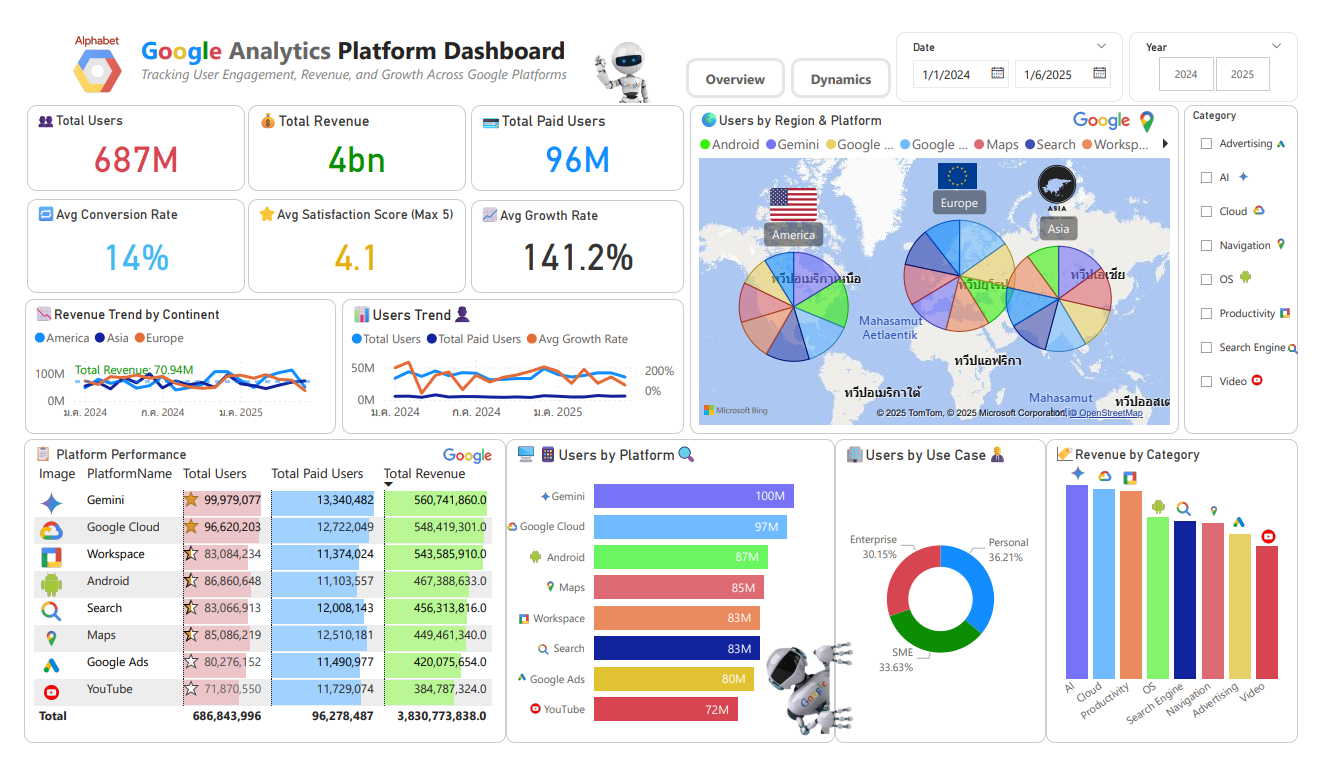

This screenshot's page, from the dashboard's own definition file:
{"tool":"powerbi","page":{"name":"Overview","canvas":[1280,720],"ordinal":0},"visuals":[{"type":"card","title":"👥Total Users","fields":{"Values":["FactUsage.Total Users"]},"box":[3.1,81.6,217.7,86.6],"z":0},{"type":"card","title":"💰Total Revenue","fields":{"Values":["FactUsage.Total Revenue"]},"box":[223.8,81.8,218.6,86.4],"z":1000},{"type":"card","title":"💳Total Paid Users","fields":{"Values":["FactUsage.Total Paid Users"]},"box":[447,81.8,212.7,86.4],"z":2000},{"type":"card","title":"🔁Avg Conversion Rate\t","fields":{"Values":["FactUsage.Avg Conversion Rate (%)"]},"box":[3.3,176,217.3,93.6],"z":3000},{"type":"card","title":"⭐Avg Satisfaction Score (Max 5)","fields":{"Values":["FactUsage.Avg Satisfaction Score"]},"box":[223.8,176,218.6,94.2],"z":4000},{"type":"card","title":"📈Avg Growth Rate","fields":{"Values":["FactUsage.Avg Growth Rate"]},"box":[447,176.7,212.7,93.6],"z":5000},{"type":"lineChart","title":"📉Revenue Trend by Continent","fields":{"Series":["DimRegion.Continent"],"Y":["FactUsage.Total Revenue"],"Category":["FactUsage.Date"]},"box":[1.3,276.2,310.8,134.8],"z":6000},{"type":"lineChart","title":"📊Users Trend👤","fields":{"Y":["FactUsage.Total Users","FactUsage.Total Paid Users"],"Category":["FactUsage.Date.Variation.Date Hierarchy.Year","FactUsage.Date.Variation.Date Hierarchy.Quarter","FactUsage.Date.Variation.Date Hierarchy.Month","FactUsage.Date.Variation.Date Hierarchy.Day"],"Y2":["FactUsage.Avg Growth Rate"]},"box":[318,276.2,341.6,134.8],"z":7000},{"type":"barChart","title":"🖥️📱Users by Platform🔍","fields":{"Category":["DimPlatform.PlatformName"],"Y":["FactUsage.Total Users"]},"box":[481.7,415.7,329.4,304],"z":8000},{"type":"donutChart","title":"🏢Users by Use Case🧑💼","fields":{"Category":["FactUsage.UseCase"],"Y":["FactUsage.Total Users"]},"box":[811,415.7,210.7,304],"z":9000},{"type":"map","title":"🌍Users by Region & Platform","fields":{"Category":["DimRegion.Continent"],"Size":["FactUsage.Total Users"],"Series":["DimPlatform.PlatformName"]},"box":[665.7,81.9,489.3,328.7],"z":10000},{"type":"columnChart","title":"🏷️Revenue by Category","fields":{"Category":["DimPlatform.Category"],"Y":["FactUsage.Total Revenue"]},"box":[1021.7,415.7,252.6,304],"z":11000},{"type":"textbox","box":[112,5,457,77],"z":12000},{"type":"tableEx","title":"📋 Platform Performance","fields":{"Values":["DimPlatform.logoURL","DimPlatform.PlatformName","FactUsage.Total Users","FactUsage.Total Paid Users","FactUsage.Total Revenue"]},"box":[0,415.5,481.6,304.3],"z":13000},{"type":"slicer","fields":{"Values":["FactUsage.Date.Variation.Date Hierarchy.Year"]},"box":[1105.5,8.9,168.8,69.8],"z":14000},{"type":"slicer","fields":{"Values":["FactUsage.Date"]},"box":[872.3,9,226.4,69.9],"z":15000},{"type":"image","box":[557.2,0,93.3,94.6],"z":16000},{"type":"image","box":[731.1,609.9,112,110.1],"z":17000},{"type":"slicer","title":"Category","fields":{"Values":["DimPlatform.Category"]},"box":[1160.1,81.9,114.2,328.7],"z":18000},{"type":"image","box":[1205.8,142.8,26.7,20.9],"z":19000},{"type":"image","box":[1217.2,343.3,30.5,27.3],"z":20000},{"type":"image","box":[1210.8,241.2,21.6,23.5],"z":21000},{"type":"image","box":[1221.6,176.4,25.4,21.6],"z":22000},{"type":"image","box":[1241.9,109.8,29.8,22.2],"z":23000},{"type":"image","box":[1241.9,206.9,29.8,27.9],"z":24000},{"type":"image","box":[1250.2,276.1,21.6,27.9],"z":25000},{"type":"image","box":[1257.8,313.5,22.2,24.1],"z":26000},{"type":"image","box":[1030.6,59,91.4,80],"z":27000},{"type":"image","box":[1098.5,75.5,47.6,46.3],"z":28000},{"type":"image","box":[25.4,12.1,95.2,71.1],"z":29000},{"type":"image","box":[508.3,462.6,26.7,20.9],"z":30000},{"type":"image","box":[478.5,490.6,19.7,26],"z":31000},{"type":"image","box":[500.1,521.6,21.6,23.5],"z":32000},{"type":"image","box":[510.9,549.6,29.8,27.9],"z":33000},{"type":"image","box":[489.3,581.9,21.6,27.9],"z":34000},{"type":"image","box":[1257.8,313.5,22.2,24.1],"z":35000},{"type":"image","box":[508.3,614.3,22.2,24.1],"z":36000},{"type":"image","box":[495.6,672,30.5,27.3],"z":37000},{"type":"image","box":[484.2,642.9,27.9,22.2],"z":38000},{"type":"image","box":[1037.6,437.2,31.1,25.4],"z":39000},{"type":"image","box":[1068.7,437.2,24.7,31.7],"z":40000},{"type":"image","box":[1122.6,469,23.5,27.9],"z":41000},{"type":"image","box":[1093.4,441.7,24.1,27.3],"z":42000},{"type":"image","box":[1146.1,470.9,27.9,29.2],"z":43000},{"type":"image","box":[1176.6,473.4,26.7,29.2],"z":44000},{"type":"image","box":[1198.8,485.5,32.4,27.3],"z":45000},{"type":"image","box":[1226.7,496.9,34.3,33],"z":46000},{"type":"image","box":[909.4,129.5,48.9,46.3],"z":47000},{"type":"image","box":[740.6,152.9,57.1,57.1],"z":48000},{"type":"image","box":[996.3,132,72.3,70.4],"z":49000},{"type":"image","box":[401.1,398.5,83.1,70.4],"z":50000},{"type":"image","box":[40,0,66,37.4],"z":51000},{"type":"actionButton","box":[767.5,35.3,99.7,40.2],"z":52000},{"type":"actionButton","box":[661.5,35.3,99.7,40.2],"z":53000}]}

Visuals, with their boxes in screenshot pixels (x1, y1, x2, y2), scaled from the page's 1280x720 canvas onto the 1327x765 screenshot:
"👥Total Users" card: [3, 87, 229, 179]
"💰Total Revenue" card: [232, 87, 459, 179]
"💳Total Paid Users" card: [463, 87, 684, 179]
"🔁Avg Conversion Rate	" card: [3, 187, 229, 286]
"⭐Avg Satisfaction Score (Max 5)" card: [232, 187, 459, 287]
"📈Avg Growth Rate" card: [463, 188, 684, 287]
"📉Revenue Trend by Continent" lineChart: [1, 293, 324, 437]
"📊Users Trend👤" lineChart: [330, 293, 684, 437]
"🖥️📱Users by Platform🔍" barChart: [499, 442, 841, 764]
"🏢Users by Use Case🧑💼" donutChart: [841, 442, 1059, 764]
"🌍Users by Region & Platform" map: [690, 87, 1197, 436]
"🏷️Revenue by Category" columnChart: [1059, 442, 1321, 764]
textbox: [116, 5, 590, 87]
"📋 Platform Performance" tableEx: [0, 441, 499, 764]
slicer - FactUsage.Date.Variation.Date Hierarchy.Year: [1146, 9, 1321, 84]
slicer - FactUsage.Date: [904, 10, 1139, 84]
image: [578, 0, 674, 101]
image: [758, 648, 874, 764]
"Category" slicer: [1203, 87, 1321, 436]
image: [1250, 152, 1278, 174]
image: [1262, 365, 1294, 394]
image: [1255, 256, 1278, 281]
image: [1266, 187, 1293, 210]
image: [1288, 117, 1318, 140]
image: [1288, 220, 1318, 249]
image: [1296, 293, 1318, 323]
image: [1304, 333, 1326, 359]
image: [1068, 63, 1163, 148]
image: [1139, 80, 1188, 129]
image: [26, 13, 125, 88]
image: [527, 492, 555, 514]
image: [496, 521, 516, 549]
image: [518, 554, 541, 579]
image: [530, 584, 561, 614]
image: [507, 618, 530, 648]
image: [1304, 333, 1326, 359]
image: [527, 653, 550, 678]
image: [514, 714, 545, 743]
image: [502, 683, 531, 707]
image: [1076, 465, 1108, 492]
image: [1108, 465, 1134, 498]
image: [1164, 498, 1188, 528]
image: [1134, 469, 1159, 498]
image: [1188, 500, 1217, 531]
image: [1220, 503, 1247, 534]
image: [1243, 516, 1276, 545]
image: [1272, 528, 1307, 563]
image: [943, 138, 993, 187]
image: [768, 162, 827, 223]
image: [1033, 140, 1108, 215]
image: [416, 423, 502, 498]
image: [41, 0, 110, 40]
actionButton: [796, 38, 899, 80]
actionButton: [686, 38, 789, 80]
